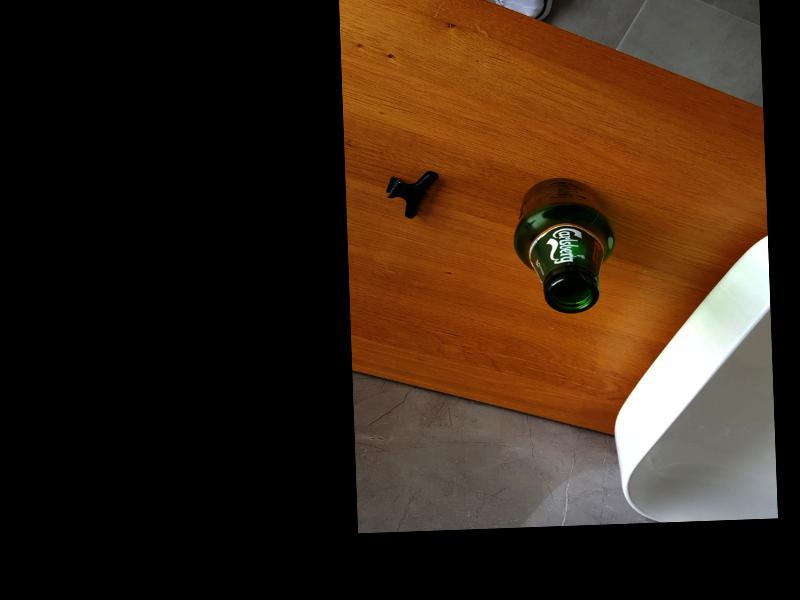Beer: (511, 176, 618, 314)
